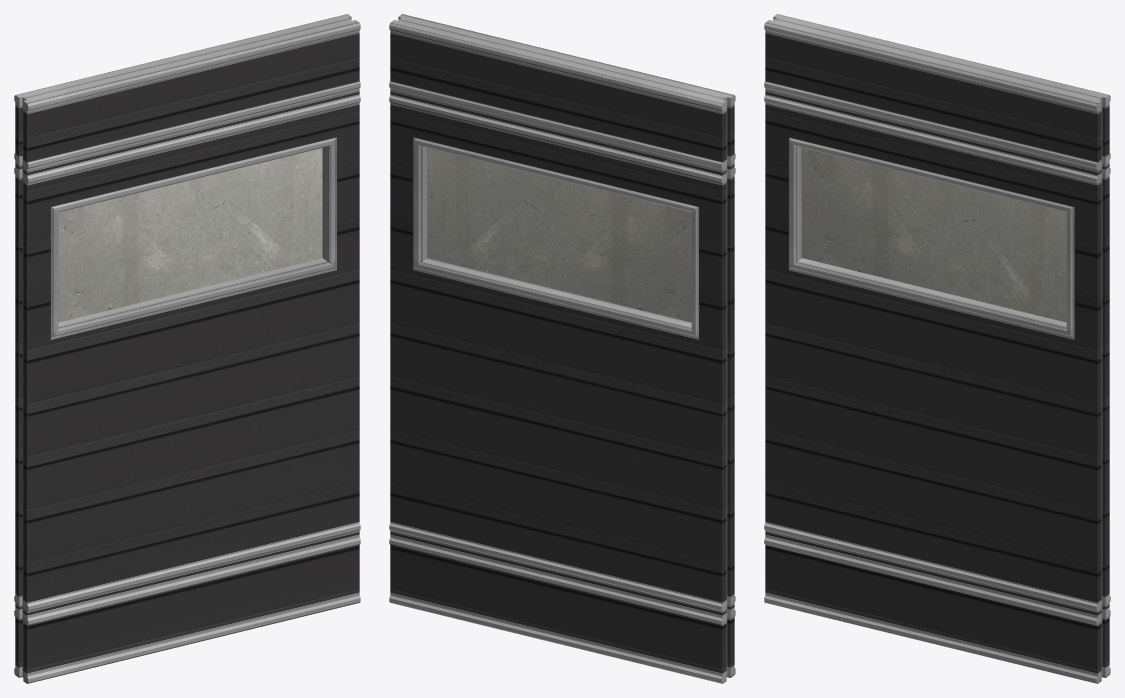
Rendered from DoorWindowed.fbx.
3 renders of one model, left to right at view 1: azimuth 30°, elevation 25°; view 2: azimuth 150°, elevation 25°; view 3: azimuth 330°, elevation 25°, orthographic.
Visible parts, largest first — view 1: Scene_Root (×2); view 2: Scene_Root (×2); view 3: Scene_Root (×2).
Boxes of the visible parts, x1,y1,x2,y2 form: Scene_Root (×2): (14, 14, 360, 683); Scene_Root (×2): (389, 14, 735, 683); Scene_Root (×2): (764, 14, 1110, 683).
Size of the model in its own units: 192 by 320 by 14.
